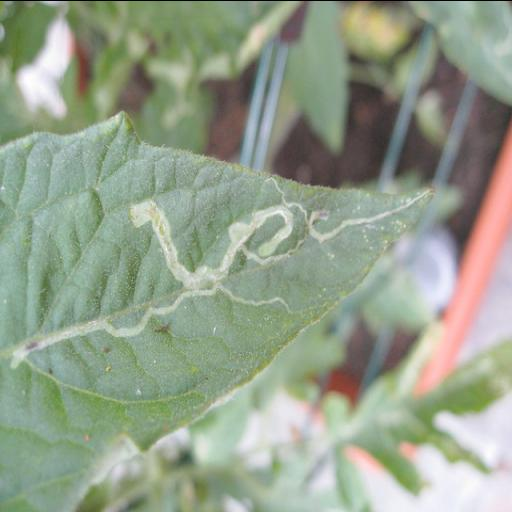disease_tomato: (0, 111, 436, 512)
